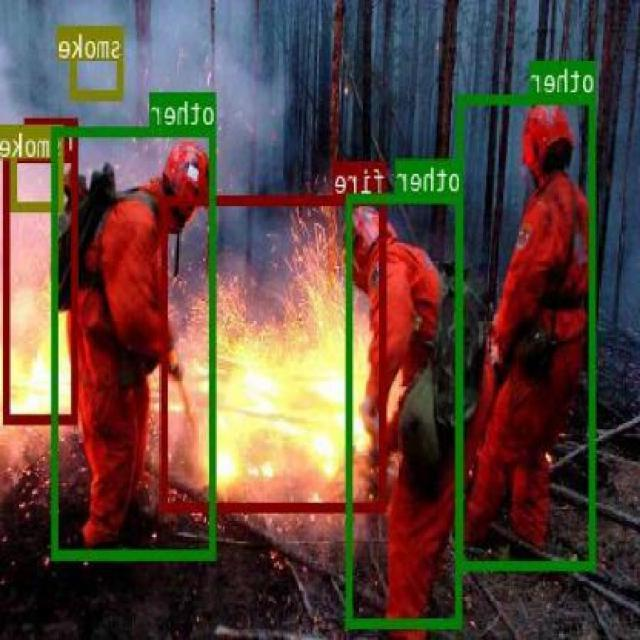Fire: (163, 194, 388, 510), (4, 150, 80, 424)
Smoke: (12, 123, 66, 210), (70, 24, 124, 98)
